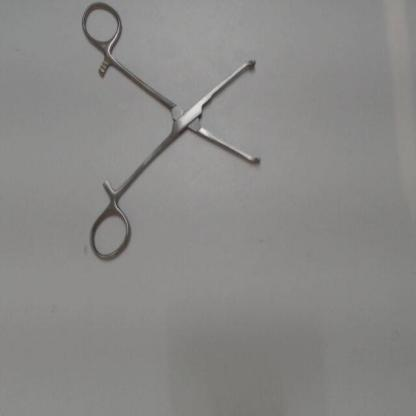Allis Tissue Forceps: (80, 0, 266, 265)
